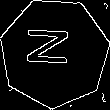N_E: (28, 31, 80, 74)
